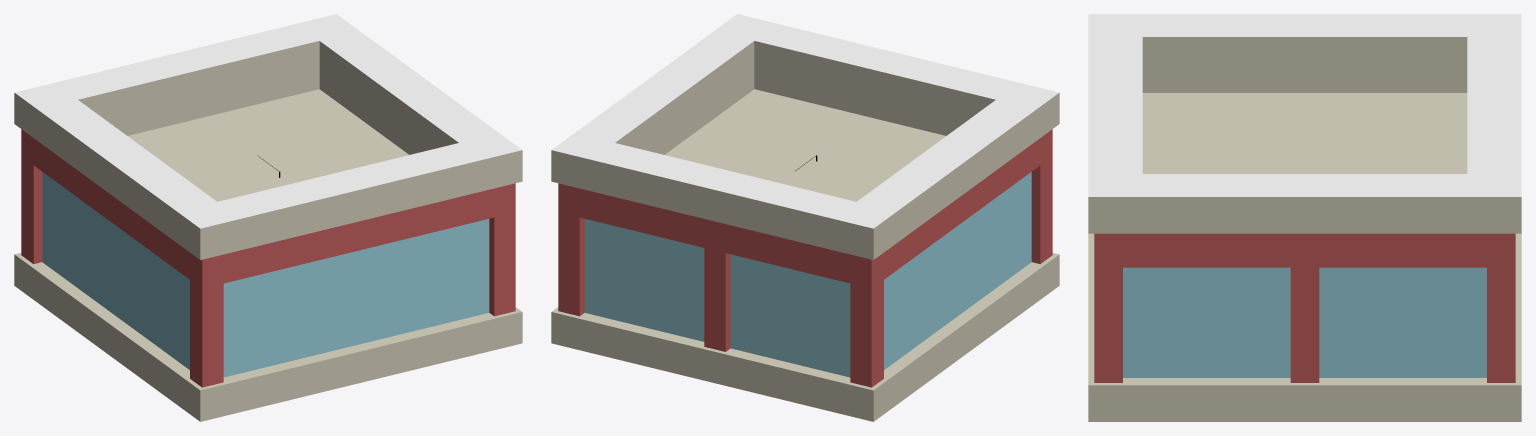
The model's file is Building 30.FBX.
3 renders of one model, left to right at view 1: azimuth 30°, elevation 25°; view 2: azimuth 150°, elevation 25°; view 3: azimuth 270°, elevation 25°, orthographic. The views are drawn at different scales.
Visible parts, largest first — view 1: Group38; view 2: Group38; view 3: Group38.
Part boxes in pixels (box(x1,y1,x2,y2)): Group38: box(14, 14, 522, 421); Group38: box(551, 14, 1059, 421); Group38: box(1088, 14, 1521, 421).
Bounding box in the file's own units: 29.53 × 16.93 × 29.53.
